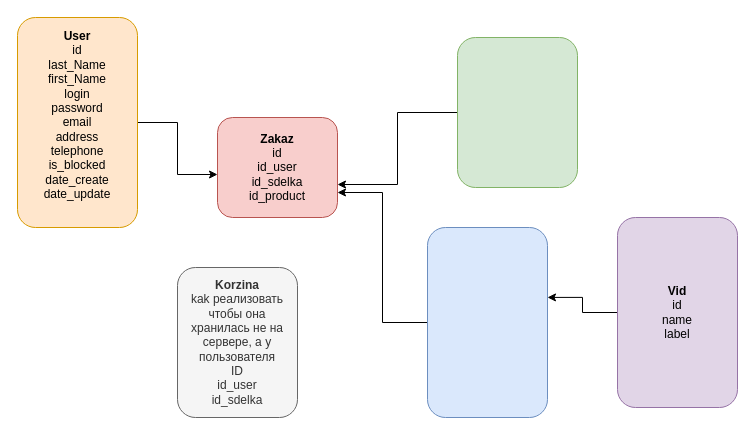
Image size: 755x435. Some labels were removed from this diagram. Each missing label, with the box of its shape:
Product id name id_vid calor belki jiry yglevody energo_cennost label coast: (426, 226, 548, 418)
Sdelka id_user id_tovar quntites oplata date: (456, 36, 578, 188)
